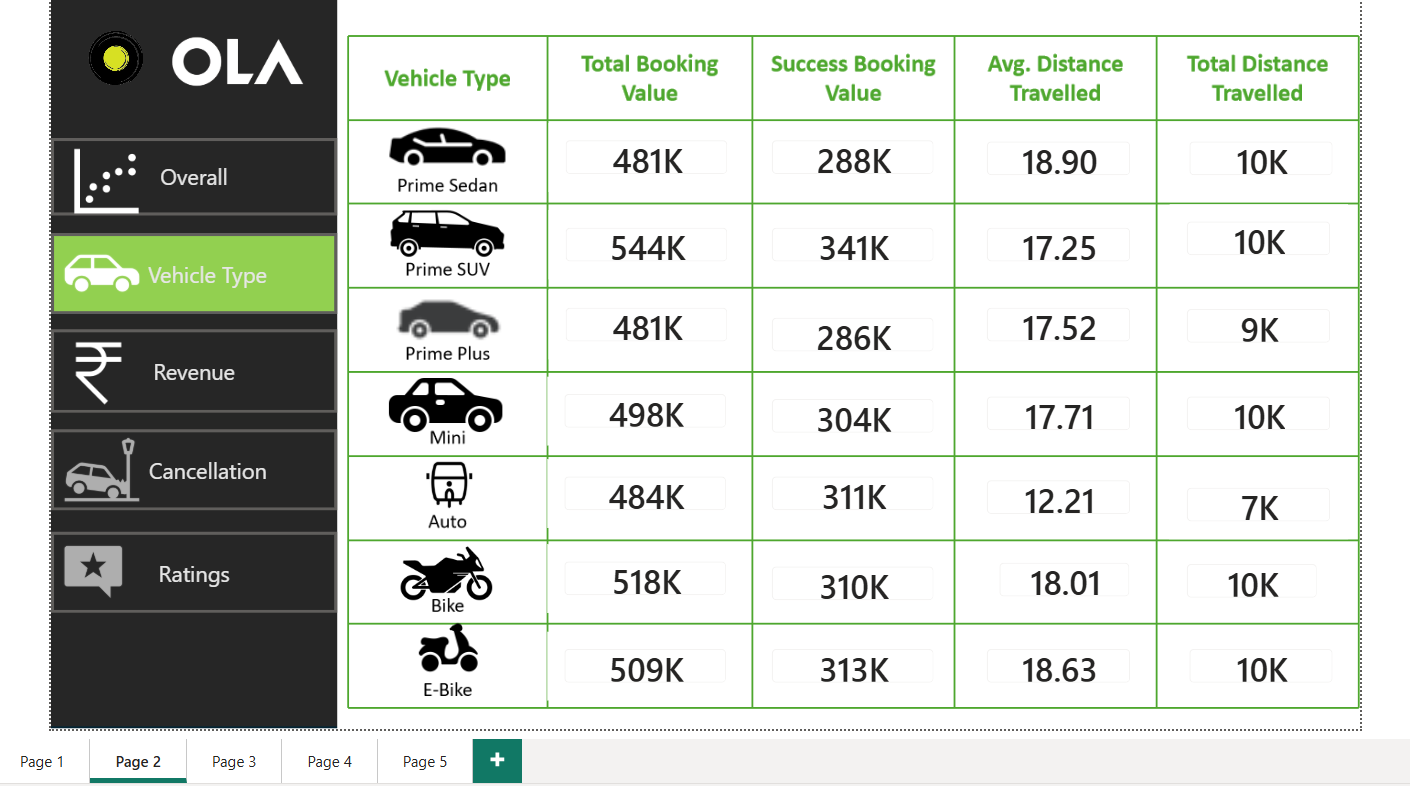

Layout of this report page (visuals, bound fields, positions):
{"tool":"powerbi","page":{"name":"Page 2","canvas":[1280,720],"ordinal":1},"visuals":[{"type":"image","box":[0,0,280,720.2],"z":0},{"type":"image","box":[118.6,33,128.4,68.5],"z":1000},{"type":"image","box":[8.6,17.1,110.1,92.9],"z":2000},{"type":"actionButton","box":[0,141.8,280,75.8],"z":3000},{"type":"image","box":[9.8,151.6,89.3,66],"z":4000},{"type":"image","box":[0,234.8,280,79.5],"z":5000},{"type":"image","box":[8.6,234.8,83.2,79.5],"z":6000},{"type":"actionButton","box":[0,234.8,280,79.5],"z":7000},{"type":"actionButton","box":[0,328.9,280,81.9],"z":8000},{"type":"image","box":[8.6,333.8,77,77],"z":9000},{"type":"actionButton","box":[0,426.8,280,79.5],"z":10000},{"type":"image","box":[6.1,426.8,88,79.5],"z":11000},{"type":"actionButton","box":[0,527,280,79.5],"z":12000},{"type":"image","box":[0,527,83.2,79.5],"z":13000},{"type":"image","box":[289.5,39.8,990.7,661.4],"z":14000},{"type":"image","box":[289.5,91.9,196.2,120.8],"z":15000},{"type":"image","box":[289.5,179.8,196.2,111.1],"z":16000},{"type":"image","box":[290.9,259.3,196.2,120.8],"z":17000},{"type":"image","box":[238.8,354,295,112.5],"z":18000},{"type":"image","box":[366.4,411.7,45.3,138.6],"z":19000},{"type":"image","box":[237.4,522.8,299.1,89.2],"z":20000},{"type":"image","box":[290.9,612,194.9,57.6],"z":21000},{"type":"cardVisual","fields":{"Data":["Sum(book.Booking_Value)"]},"box":[487.1,127.6,192.1,67.2],"z":22000},{"type":"cardVisual","fields":{"Data":["Sum(book.Booking_Value)"]},"box":[487.1,290.9,192.1,67.2],"z":23000},{"type":"cardVisual","fields":{"Data":["Sum(book.Booking_Value)"]},"box":[485.8,376,192.1,67.2],"z":24000},{"type":"cardVisual","fields":{"Data":["Sum(book.Booking_Value)"]},"box":[485.8,455.6,192.1,67.2],"z":25000},{"type":"cardVisual","fields":{"Data":["Sum(book.Booking_Value)"]},"box":[485.8,539.3,192.1,67.2],"z":26000},{"type":"cardVisual","fields":{"Data":["Sum(book.Booking_Value)"]},"box":[485.8,624.4,192.1,67.2],"z":27000},{"type":"cardVisual","fields":{"Data":["Sum(book.Booking_Value)"]},"box":[487.1,212.7,192.1,67.2],"z":28000},{"type":"cardVisual","fields":{"Data":["Sum(book.Booking_Value)"]},"box":[688.9,127.6,192.1,67.2],"z":29000},{"type":"cardVisual","fields":{"Data":["Sum(book.Booking_Value)"]},"box":[688.9,212.7,192.1,67.2],"z":30000},{"type":"cardVisual","fields":{"Data":["Sum(book.Booking_Value)"]},"box":[688.9,300.5,192.1,67.2],"z":31000},{"type":"cardVisual","fields":{"Data":["Sum(book.Booking_Value)"]},"box":[688.9,380.1,192.1,67.2],"z":32000},{"type":"cardVisual","fields":{"Data":["Sum(book.Booking_Value)"]},"box":[688.9,624.4,192.1,67.2],"z":33000},{"type":"cardVisual","fields":{"Data":["Sum(book.Booking_Value)"]},"box":[688.9,544.8,192.1,67.2],"z":34000},{"type":"cardVisual","fields":{"Data":["Sum(book.Booking_Value)"]},"box":[688.9,455.6,192.1,67.2],"z":35000},{"type":"cardVisual","fields":{"Data":["Avg(book.Ride_Distance)"]},"box":[898.8,129,174.3,67.2],"z":36000},{"type":"cardVisual","fields":{"Data":["Avg(book.Ride_Distance)"]},"box":[898.8,212.7,174.3,67.2],"z":37000},{"type":"cardVisual","fields":{"Data":["Avg(book.Ride_Distance)"]},"box":[898.8,290.9,174.3,67.2],"z":38000},{"type":"cardVisual","fields":{"Data":["Avg(book.Ride_Distance)"]},"box":[898.8,377.4,174.3,67.2],"z":39000},{"type":"cardVisual","fields":{"Data":["Avg(book.Ride_Distance)"]},"box":[898.8,459.7,174.3,67.2],"z":40000},{"type":"cardVisual","fields":{"Data":["Avg(book.Ride_Distance)"]},"box":[911.2,540.7,161.9,67.2],"z":41000},{"type":"cardVisual","fields":{"Data":["Avg(book.Ride_Distance)"]},"box":[898.8,624.4,174.3,67.2],"z":42000},{"type":"cardVisual","fields":{"Data":["Sum(book.Ride_Distance)"]},"box":[1096.4,129,174.3,67.2],"z":43000},{"type":"cardVisual","fields":{"Data":["Sum(book.Ride_Distance)"]},"box":[1095,207.2,174.3,67.2],"z":44000},{"type":"cardVisual","fields":{"Data":["Sum(book.Ride_Distance)"]},"box":[1095,292.3,174.3,67.2],"z":45000},{"type":"cardVisual","fields":{"Data":["Sum(book.Ride_Distance)"]},"box":[1095,377.4,174.3,67.2],"z":46000},{"type":"cardVisual","fields":{"Data":["Sum(book.Ride_Distance)"]},"box":[1095,466.6,174.3,67.2],"z":47000},{"type":"cardVisual","fields":{"Data":["Sum(book.Ride_Distance)"]},"box":[1095,542,161.9,67.2],"z":48000},{"type":"cardVisual","fields":{"Data":["Sum(book.Ride_Distance)"]},"box":[1096.4,624.4,174.3,67.2],"z":49000}]}

Visuals, with their boxes on the page's 1280x720 design canvas (x1, y1, x2, y2). These are canvas units, not pixel positions in the 1410x786 screenshot, which may show the page scaled, cropped or inside an application window:
image: x1=0, y1=0, x2=280, y2=720
image: x1=119, y1=33, x2=247, y2=102
image: x1=9, y1=17, x2=119, y2=110
actionButton: x1=0, y1=142, x2=280, y2=218
image: x1=10, y1=152, x2=99, y2=218
image: x1=0, y1=235, x2=280, y2=314
image: x1=9, y1=235, x2=92, y2=314
actionButton: x1=0, y1=235, x2=280, y2=314
actionButton: x1=0, y1=329, x2=280, y2=411
image: x1=9, y1=334, x2=86, y2=411
actionButton: x1=0, y1=427, x2=280, y2=506
image: x1=6, y1=427, x2=94, y2=506
actionButton: x1=0, y1=527, x2=280, y2=606
image: x1=0, y1=527, x2=83, y2=606
image: x1=290, y1=40, x2=1280, y2=701
image: x1=290, y1=92, x2=486, y2=213
image: x1=290, y1=180, x2=486, y2=291
image: x1=291, y1=259, x2=487, y2=380
image: x1=239, y1=354, x2=534, y2=466
image: x1=366, y1=412, x2=412, y2=550
image: x1=237, y1=523, x2=536, y2=612
image: x1=291, y1=612, x2=486, y2=670
cardVisual - Sum(book.Booking_Value): x1=487, y1=128, x2=679, y2=195
cardVisual - Sum(book.Booking_Value): x1=487, y1=291, x2=679, y2=358
cardVisual - Sum(book.Booking_Value): x1=486, y1=376, x2=678, y2=443
cardVisual - Sum(book.Booking_Value): x1=486, y1=456, x2=678, y2=523
cardVisual - Sum(book.Booking_Value): x1=486, y1=539, x2=678, y2=606
cardVisual - Sum(book.Booking_Value): x1=486, y1=624, x2=678, y2=692
cardVisual - Sum(book.Booking_Value): x1=487, y1=213, x2=679, y2=280
cardVisual - Sum(book.Booking_Value): x1=689, y1=128, x2=881, y2=195
cardVisual - Sum(book.Booking_Value): x1=689, y1=213, x2=881, y2=280
cardVisual - Sum(book.Booking_Value): x1=689, y1=300, x2=881, y2=368
cardVisual - Sum(book.Booking_Value): x1=689, y1=380, x2=881, y2=447
cardVisual - Sum(book.Booking_Value): x1=689, y1=624, x2=881, y2=692
cardVisual - Sum(book.Booking_Value): x1=689, y1=545, x2=881, y2=612
cardVisual - Sum(book.Booking_Value): x1=689, y1=456, x2=881, y2=523
cardVisual - Avg(book.Ride_Distance): x1=899, y1=129, x2=1073, y2=196
cardVisual - Avg(book.Ride_Distance): x1=899, y1=213, x2=1073, y2=280
cardVisual - Avg(book.Ride_Distance): x1=899, y1=291, x2=1073, y2=358
cardVisual - Avg(book.Ride_Distance): x1=899, y1=377, x2=1073, y2=445
cardVisual - Avg(book.Ride_Distance): x1=899, y1=460, x2=1073, y2=527
cardVisual - Avg(book.Ride_Distance): x1=911, y1=541, x2=1073, y2=608
cardVisual - Avg(book.Ride_Distance): x1=899, y1=624, x2=1073, y2=692
cardVisual - Sum(book.Ride_Distance): x1=1096, y1=129, x2=1271, y2=196
cardVisual - Sum(book.Ride_Distance): x1=1095, y1=207, x2=1269, y2=274
cardVisual - Sum(book.Ride_Distance): x1=1095, y1=292, x2=1269, y2=360
cardVisual - Sum(book.Ride_Distance): x1=1095, y1=377, x2=1269, y2=445
cardVisual - Sum(book.Ride_Distance): x1=1095, y1=467, x2=1269, y2=534
cardVisual - Sum(book.Ride_Distance): x1=1095, y1=542, x2=1257, y2=609
cardVisual - Sum(book.Ride_Distance): x1=1096, y1=624, x2=1271, y2=692
